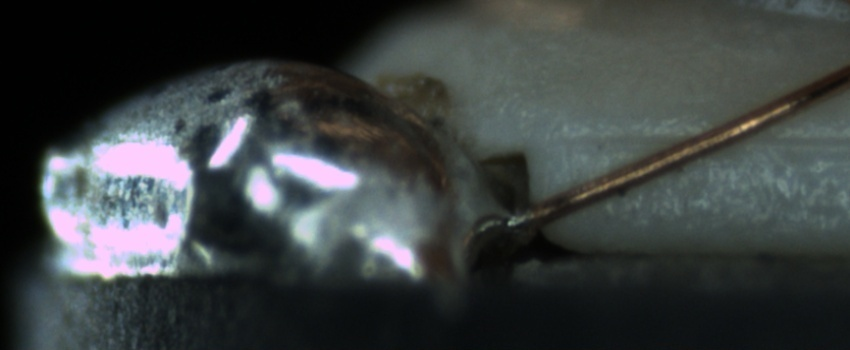DL: (558, 108, 845, 170)
TS: (494, 207, 529, 230)
